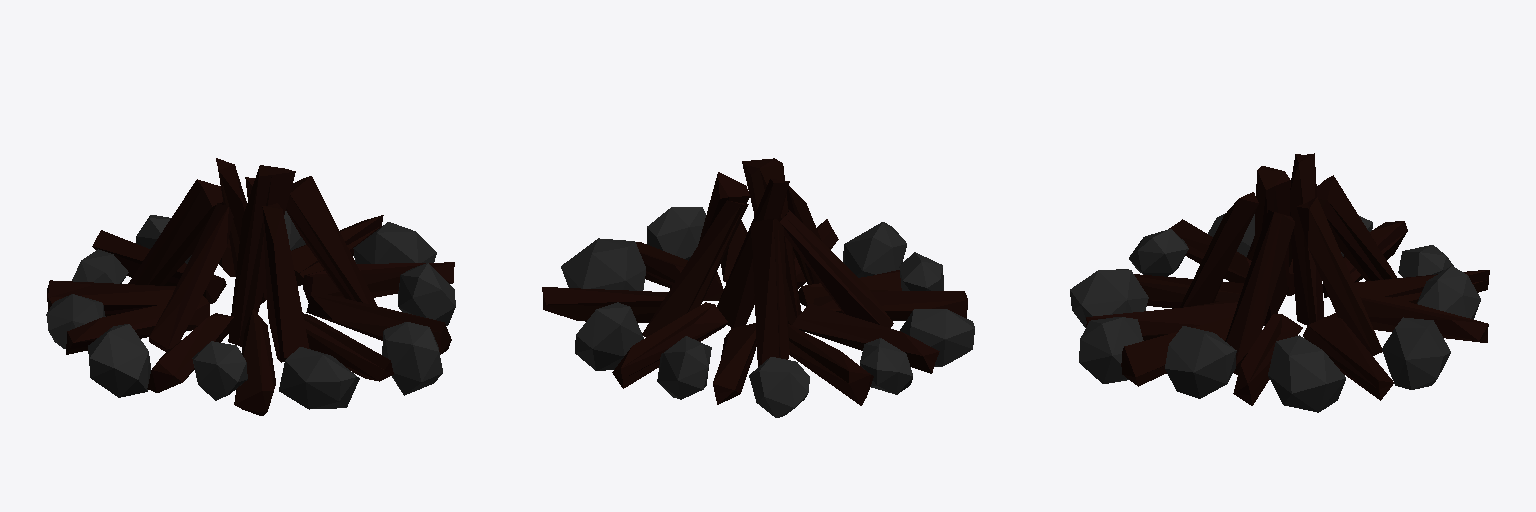
Rendered from fire_place.obj.
3 views of the same model, side by side, from view 1: azimuth 30°, elevation 25°; view 2: azimuth 150°, elevation 25°; view 3: azimuth 270°, elevation 25° (orthographic).
Parts seen in each view (by area): view 1: SM_Camping_Bonfire; view 2: SM_Camping_Bonfire; view 3: SM_Camping_Bonfire.
Boxes of the visible parts, <box> form: SM_Camping_Bonfire: <box>46,158,455,415</box>; SM_Camping_Bonfire: <box>542,158,974,417</box>; SM_Camping_Bonfire: <box>1070,153,1489,412</box>.
Size of the model in its own units: 2.75 by 1.28 by 2.67.